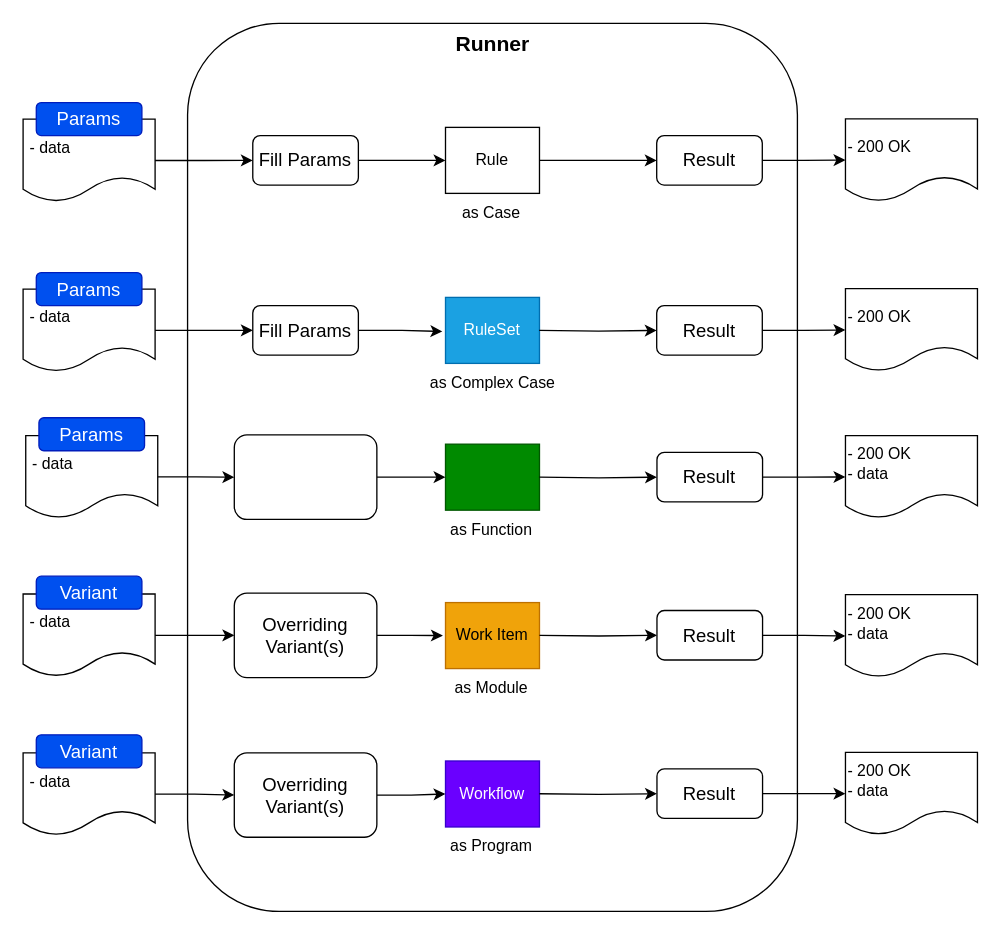
Some shapes in this 1001 by 935 pixel diagram are drawn without their labels. Each missing label, with the box of its shape:
Nodo: (444, 443, 539, 510)
Override Variant(s) with Params: (233, 434, 377, 519)
